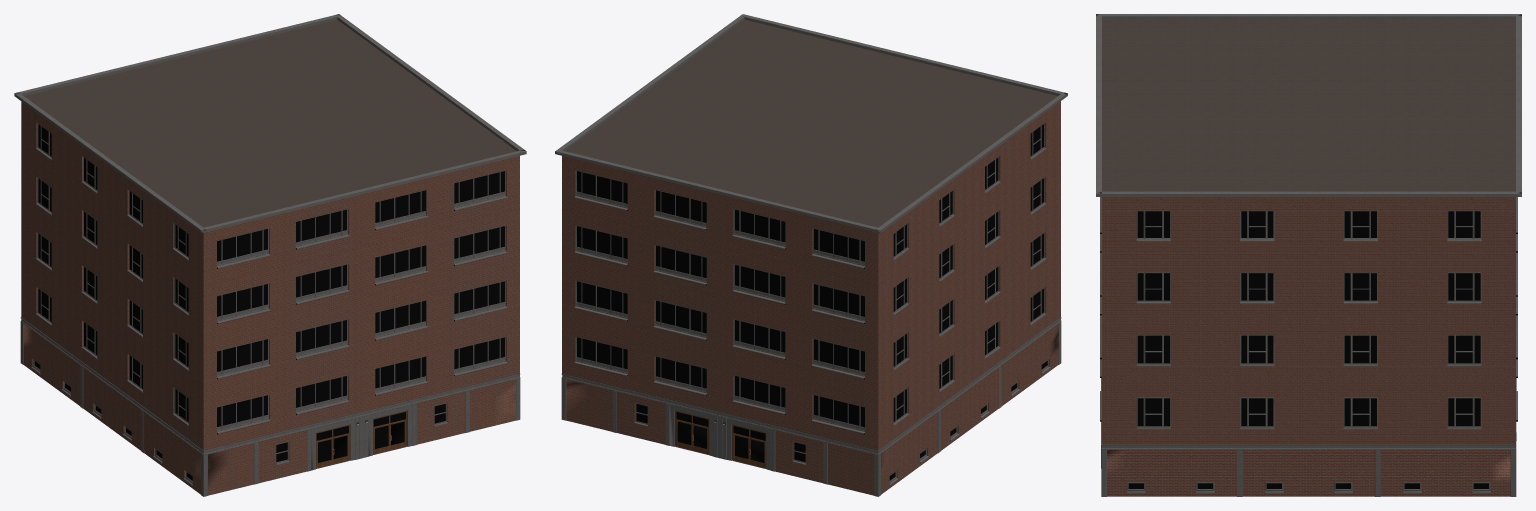
The model's file is building_6.fbx.
3 renders of one model, left to right at view 1: azimuth 30°, elevation 25°; view 2: azimuth 150°, elevation 25°; view 3: azimuth 270°, elevation 25°, orthographic. The views are drawn at different scales.
Parts seen in each view (by area): view 1: building_6_middle, building_6_roof, building_6_bottom; view 2: building_6_middle, building_6_roof, building_6_bottom; view 3: building_6_middle, building_6_roof, building_6_bottom.
Boxes of the visible parts, x1,y1,x2,y2 form: building_6_middle: (21, 101, 519, 450); building_6_roof: (14, 14, 526, 233); building_6_bottom: (20, 317, 520, 496); building_6_middle: (562, 101, 1060, 450); building_6_roof: (555, 14, 1067, 233); building_6_bottom: (561, 317, 1061, 496); building_6_middle: (1100, 197, 1517, 444); building_6_roof: (1096, 14, 1521, 196); building_6_bottom: (1101, 378, 1516, 496).
Bounding box in the file's own units: 3700 × 2927 × 3700.
